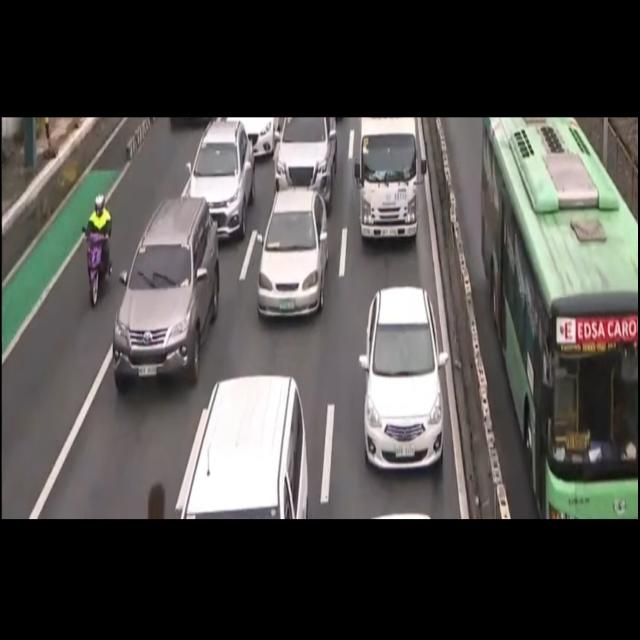Bus: (476, 118, 638, 516)
Motorcycle: (86, 188, 113, 308)
SUV: (108, 206, 220, 385), (182, 376, 310, 522), (188, 118, 256, 242), (272, 114, 338, 209)
Sedan: (358, 289, 454, 475), (251, 192, 324, 318)
Truck: (351, 114, 425, 250)
